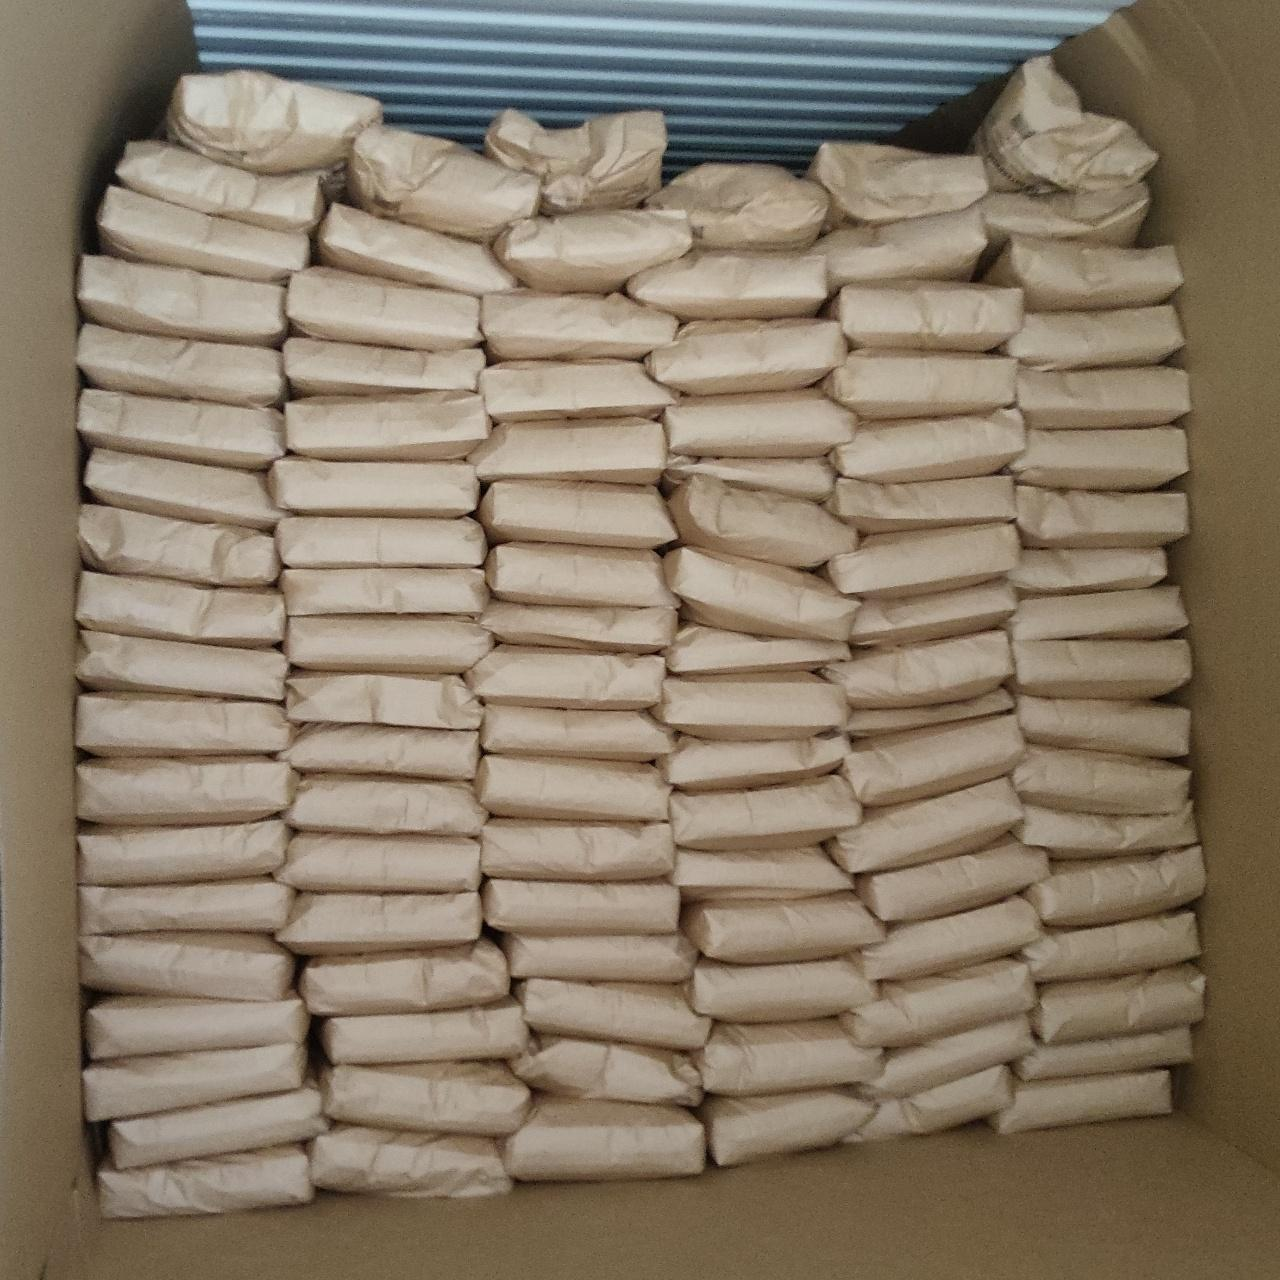sack: (166, 70, 382, 200), (973, 57, 1157, 193), (348, 125, 538, 241), (98, 188, 309, 282), (117, 139, 327, 233), (77, 256, 286, 346), (663, 546, 859, 640), (318, 203, 516, 295), (485, 111, 666, 212), (667, 472, 858, 567), (832, 777, 1022, 871), (84, 1042, 307, 1121), (111, 1087, 327, 1167), (77, 324, 286, 407), (840, 713, 1024, 806), (503, 1096, 704, 1180), (77, 388, 284, 470), (842, 958, 1034, 1046), (857, 835, 1048, 922), (286, 266, 482, 350), (805, 142, 988, 232), (84, 448, 282, 531), (493, 210, 692, 293), (79, 505, 278, 586), (298, 940, 509, 1015), (76, 571, 284, 647), (646, 318, 847, 395), (98, 1145, 313, 1218), (645, 164, 828, 248), (321, 1061, 529, 1135), (76, 629, 288, 701), (815, 206, 988, 293), (77, 756, 298, 824), (822, 629, 1012, 708), (862, 1014, 1034, 1099), (983, 237, 1182, 311), (1026, 845, 1204, 927), (860, 898, 1040, 979), (81, 932, 294, 1000), (309, 1125, 511, 1197), (321, 995, 529, 1064), (697, 1017, 883, 1095), (828, 524, 1020, 598), (682, 892, 884, 962), (76, 819, 291, 885), (828, 410, 1024, 482), (516, 978, 709, 1050), (669, 776, 862, 849), (626, 250, 828, 319), (1032, 962, 1204, 1043), (287, 392, 489, 459), (481, 290, 679, 359), (697, 1088, 874, 1165), (75, 694, 295, 756), (830, 281, 1023, 352), (86, 998, 308, 1058), (478, 481, 678, 549), (467, 417, 666, 484), (821, 350, 1016, 418), (467, 644, 665, 710), (651, 672, 847, 738), (662, 389, 855, 457), (275, 891, 482, 954), (268, 457, 479, 518), (512, 1037, 701, 1105), (79, 876, 295, 934), (476, 755, 669, 821), (1023, 912, 1200, 982), (847, 1065, 1012, 1141), (689, 956, 879, 1021), (1013, 745, 1190, 813), (275, 833, 481, 892), (481, 818, 674, 880), (486, 543, 678, 605), (285, 777, 486, 836), (481, 361, 674, 422), (284, 338, 484, 396), (1002, 305, 1183, 369), (287, 617, 493, 673), (990, 1070, 1171, 1133), (972, 183, 1149, 247), (825, 476, 1015, 535), (287, 672, 481, 729), (484, 879, 680, 935), (1010, 427, 1187, 489), (1017, 366, 1189, 429), (277, 517, 486, 568), (1016, 485, 1187, 547), (481, 598, 678, 652), (481, 704, 673, 760), (288, 724, 479, 779), (658, 735, 849, 790), (1014, 802, 1197, 859), (849, 581, 1017, 644), (1013, 639, 1190, 697), (1017, 697, 1189, 757), (672, 846, 853, 901), (1007, 586, 1189, 641), (280, 568, 488, 617), (1015, 1024, 1191, 1080), (502, 933, 696, 982), (663, 625, 850, 673), (846, 689, 1013, 738), (663, 455, 836, 502), (1008, 549, 1166, 593)
